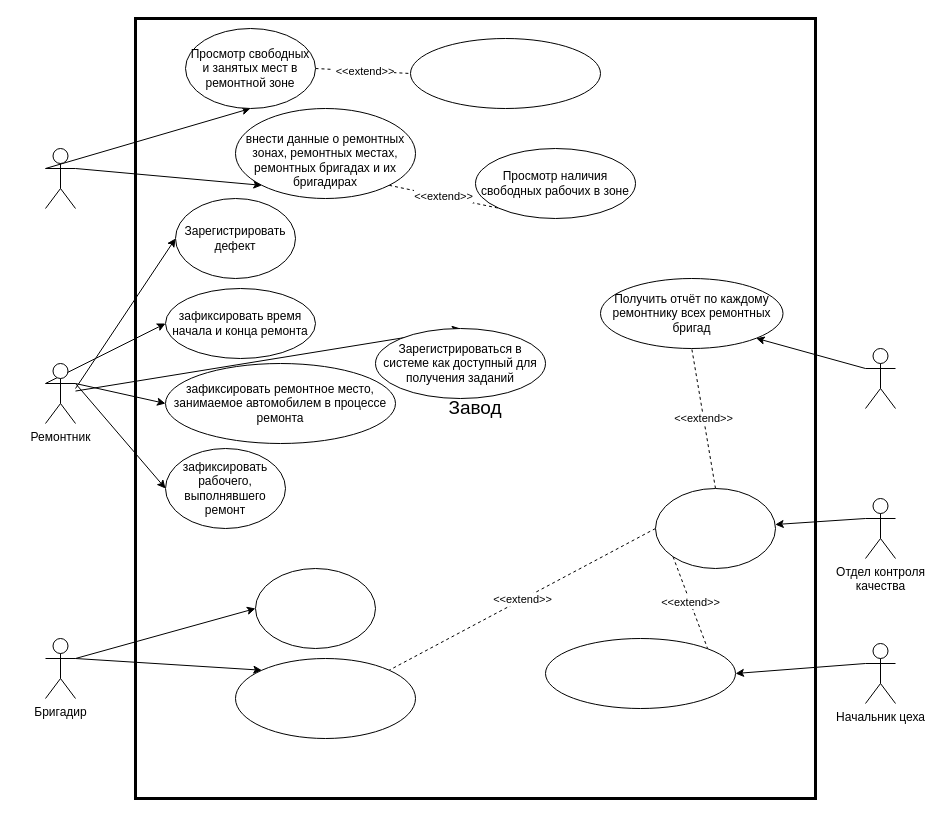
The diagram is 942 pixels wide and 817 high, and some of its shapes have lost their labels. Here are the shapes that lost their labels. From the top down, the centre of each, then its label:
At pixel 505 73: "направить автомобиль для ремонта в свободную ремонтную зону".
At pixel 60 178: "Администратор".
At pixel 880 378: "Бухгалтерия".
At pixel 715 528: "Получить сводный отчет и статистику".
At pixel 315 608: "Назначить ремонт конкретному рабочему".
At pixel 640 673: "Получить отчёт об общем количестве ремонтов и их суммарном времени".
At pixel 325 698: "Получить информацию по каждому ремонтнику бригады".
